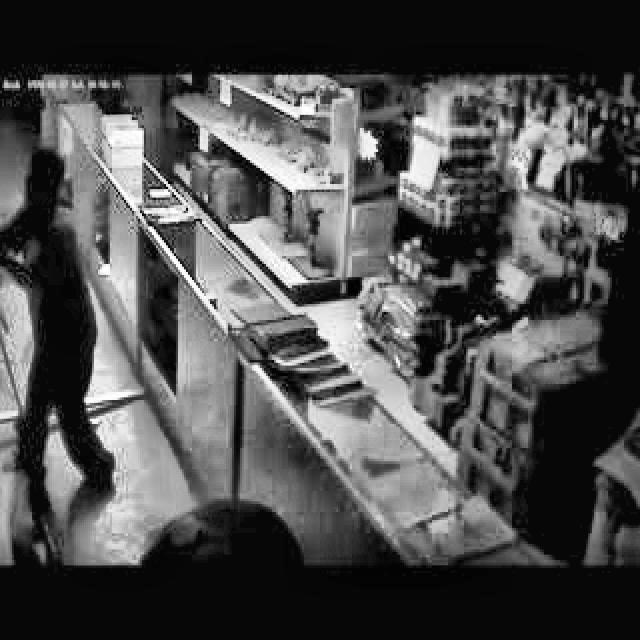burglary: (1, 146, 148, 565)
